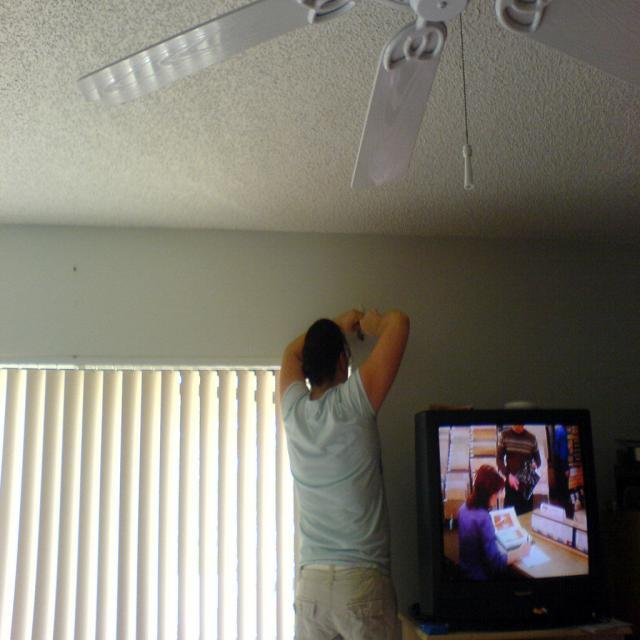fan_off: (77, 0, 640, 190)
